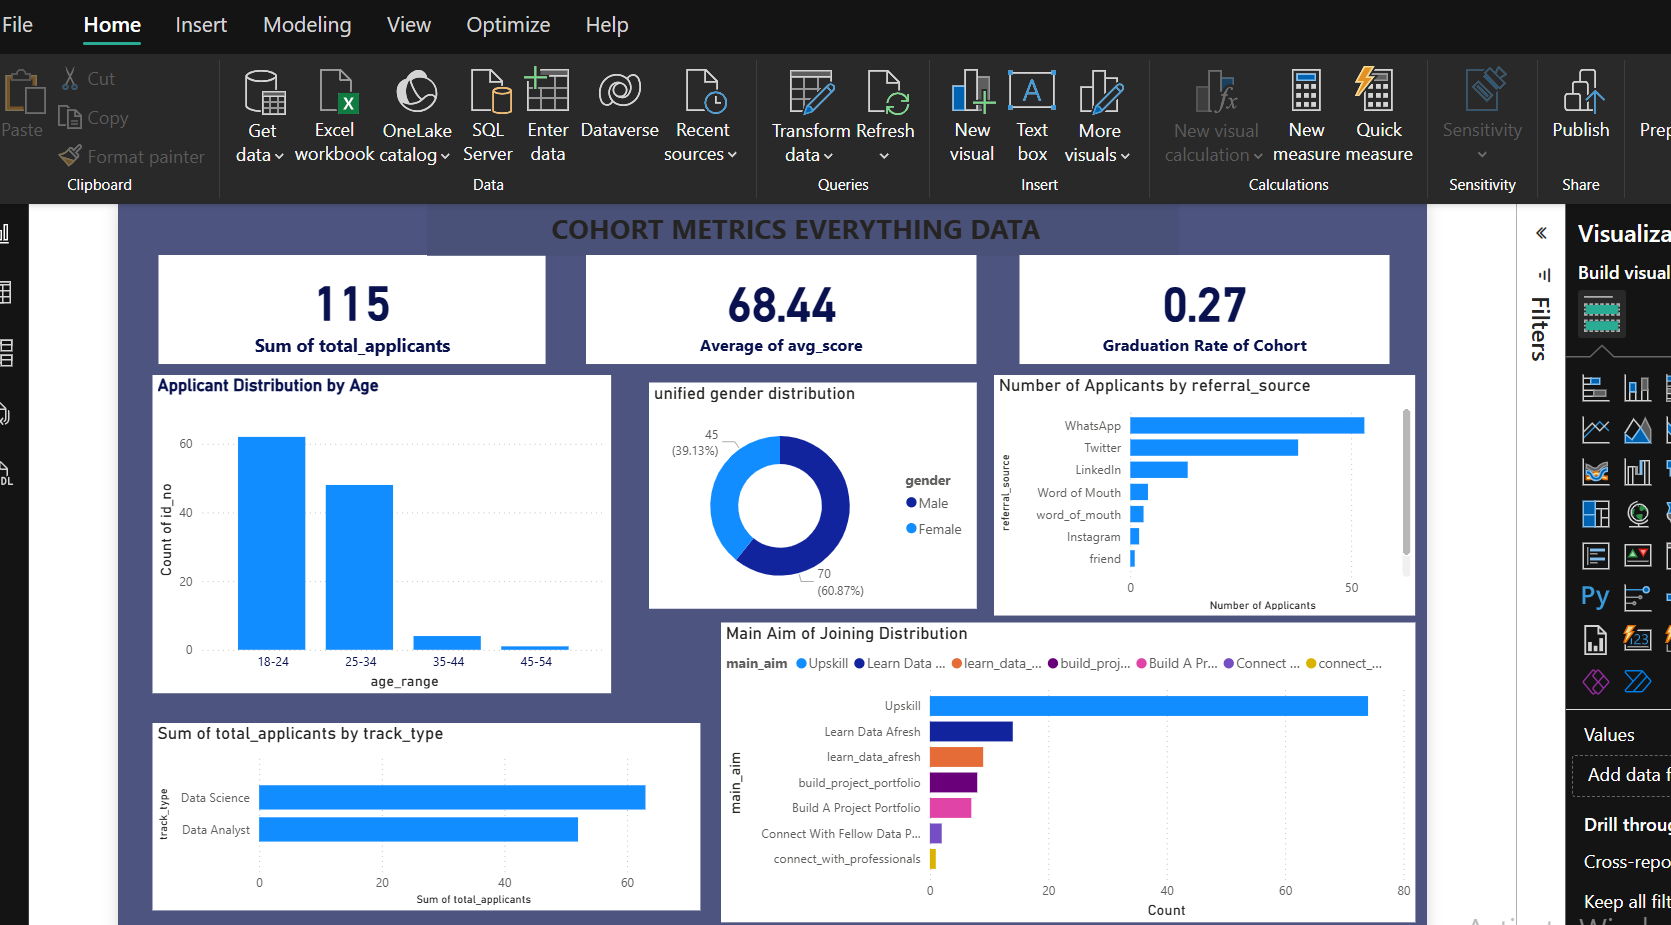

The dashboard page shown, as its layout file describes it:
{"tool":"powerbi","page":{"name":"Page 1","canvas":[1280,720],"ordinal":0},"visuals":[{"type":"card","fields":{"Values":["Sum(mart_total_intake_summary.total_applicants)"]},"box":[39.7,50.4,378.7,106.9],"z":0},{"type":"textbox","box":[302.3,0,735.9,50.4],"z":1000},{"type":"card","fields":{"Values":["Avg(mart_recruitment_effectiveness.avg_score)"]},"box":[458.1,50.4,381.7,106.9],"z":2000},{"type":"card","fields":{"Values":["Avg(mart_recruitment_effectiveness.graduation_rate)"]},"box":[882.5,50.4,361.9,106.9],"z":3000},{"type":"columnChart","title":"Applicant Distribution by Age","fields":{"Category":["unified_intake.age_range"],"Y":["CountNonNull(unified_intake.id_no)"]},"box":[33.6,168,448.9,311.5],"z":4000},{"type":"donutChart","title":"unified gender distribution","fields":{"Category":["unified_intake.gender"],"Y":["CountNonNull(unified_intake.id_no)"]},"box":[519.1,174.1,320.6,221.4],"z":5000},{"type":"clusteredBarChart","fields":{"Category":["unified_intake.referral_source"],"Y":["CountNonNull(unified_intake.id_no)"]},"box":[856.6,168,412.2,235.1],"z":6000},{"type":"clusteredBarChart","fields":{"Category":["mart_recruitment_effectiveness.track_type"],"Y":["Sum(mart_recruitment_effectiveness.total_applicants)"]},"box":[33.6,508.4,535.9,183.2],"z":7000},{"type":"barChart","title":"Main Aim of Joining Distribution","fields":{"Category":["unified_intake.main_aim"],"Y":["CountNonNull(unified_intake.id_no)"],"Series":["unified_intake.main_aim"]},"box":[589.4,409.2,679.4,293.2],"z":8000}]}

Visuals, with their boxes on the page's 1280x720 design canvas (x1, y1, x2, y2). These are canvas units, not pixel positions in the 1671x925 screenshot, which may show the page scaled, cropped or inside an application window:
card - Sum(mart_total_intake_summary.total_applicants): crop(40, 50, 418, 157)
textbox: crop(302, 0, 1038, 50)
card - Avg(mart_recruitment_effectiveness.avg_score): crop(458, 50, 840, 157)
card - Avg(mart_recruitment_effectiveness.graduation_rate): crop(882, 50, 1244, 157)
"Applicant Distribution by Age" columnChart: crop(34, 168, 482, 480)
"unified gender distribution" donutChart: crop(519, 174, 840, 396)
clusteredBarChart - unified_intake.referral_source x CountNonNull(unified_intake.id_no): crop(857, 168, 1269, 403)
clusteredBarChart - mart_recruitment_effectiveness.track_type x Sum(mart_recruitment_effectiveness.total_applicants): crop(34, 508, 570, 692)
"Main Aim of Joining Distribution" barChart: crop(589, 409, 1269, 702)
